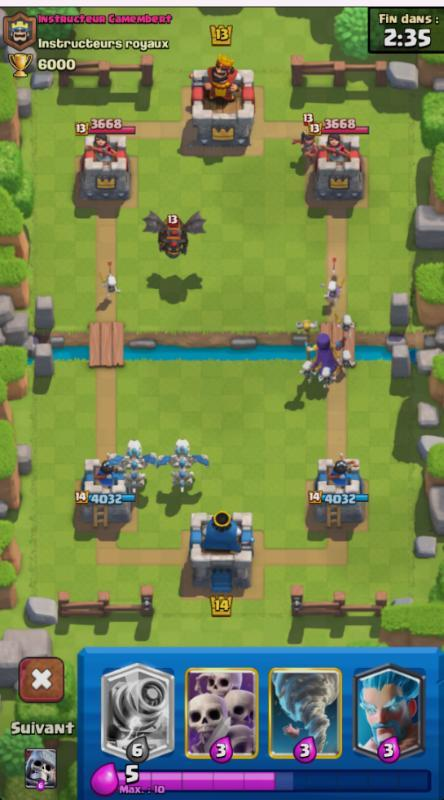enemy_lava_hound: (138, 207, 208, 268)
enemy_princess: (290, 113, 322, 161)
player_skeleton_dragon: (154, 434, 211, 496)
player_skeletons: (95, 270, 125, 296), (319, 274, 345, 304), (315, 364, 339, 389), (293, 358, 317, 382), (337, 312, 359, 338), (336, 349, 360, 372)
player_witch: (300, 324, 340, 385)
